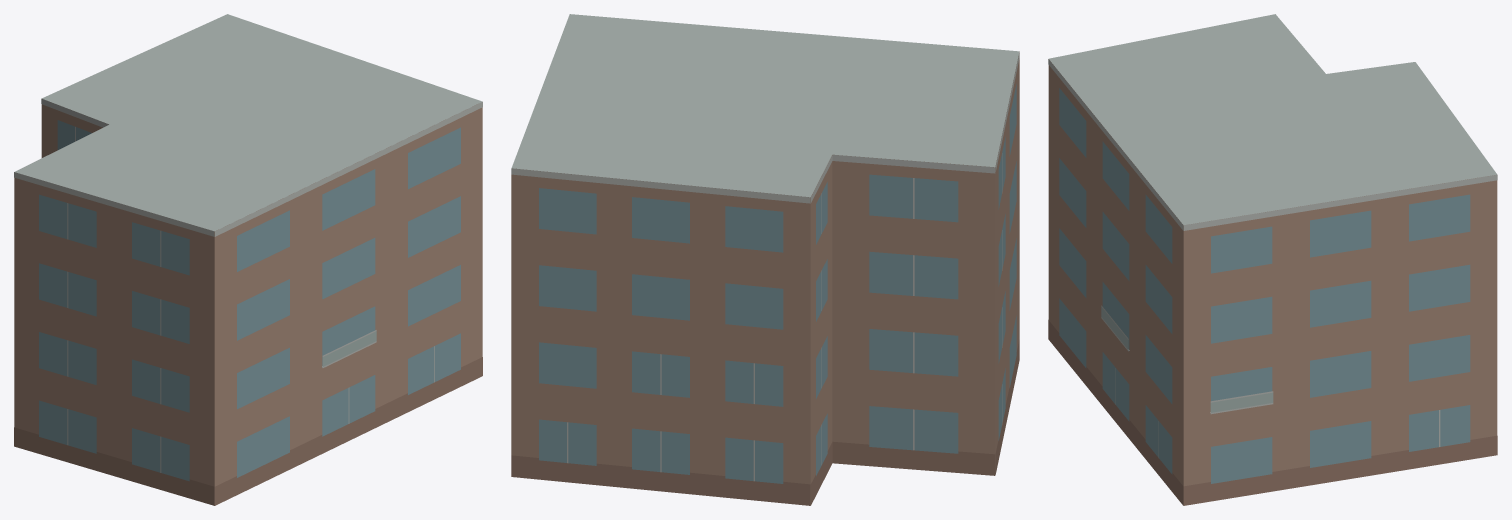
The model's file is survey-upis-32848792.glb.
3 renders of one model, left to right at view 1: azimuth 30°, elevation 25°; view 2: azimuth 150°, elevation 25°; view 3: azimuth 270°, elevation 25°, orthographic. The views are drawn at different scales.
Visible parts, largest first — view 1: survey-upis-32848792.tmp; view 2: survey-upis-32848792.tmp; view 3: survey-upis-32848792.tmp.
Boxes of the visible parts, <box> form: survey-upis-32848792.tmp: <box>14,14,482,505</box>; survey-upis-32848792.tmp: <box>511,14,1019,505</box>; survey-upis-32848792.tmp: <box>1048,14,1497,505</box>.
Size of the model in its own units: 19.28 by 11.93 by 17.31.
